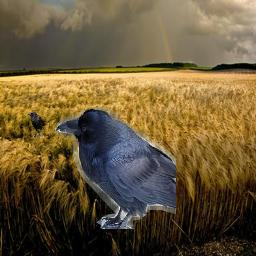Crow: (56, 107, 177, 229), (27, 112, 45, 139)
